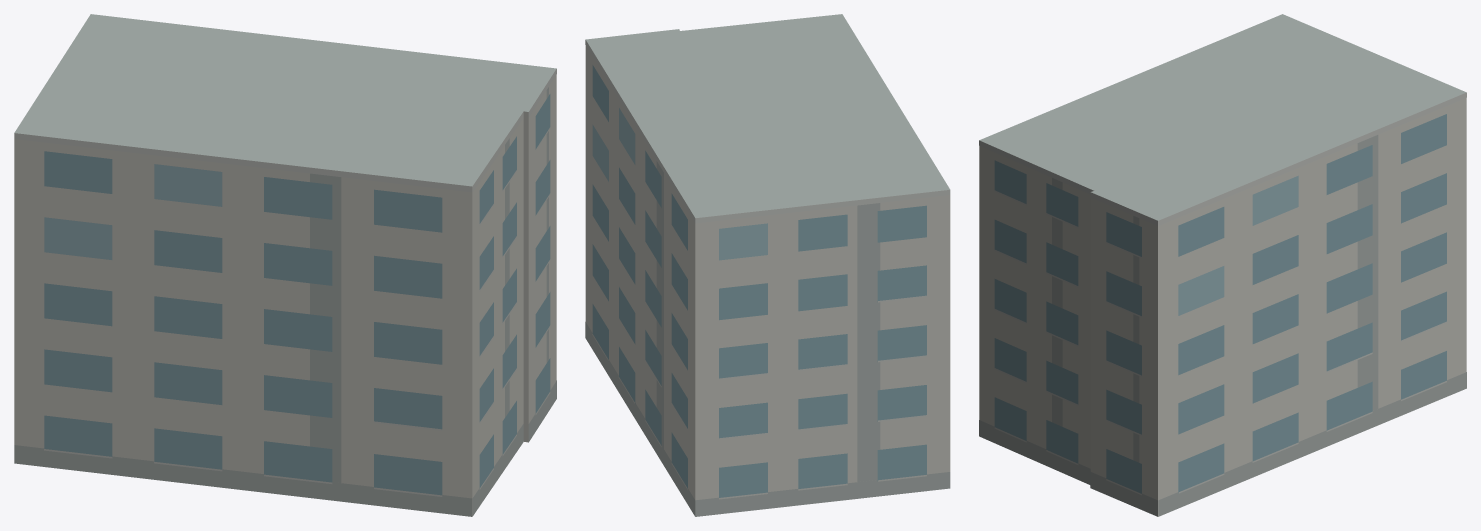
File: survey-upis-32999260.glb
The picture shows the model from 3 angles, left to right: view 1: azimuth 30°, elevation 25°; view 2: azimuth 150°, elevation 25°; view 3: azimuth 270°, elevation 25°; orthographic projection. The views are drawn at different scales.
Parts seen in each view (by area): view 1: survey-upis-32999260.tmp; view 2: survey-upis-32999260.tmp; view 3: survey-upis-32999260.tmp.
Part boxes in pixels (bbox=[...]): survey-upis-32999260.tmp: bbox=[14, 14, 556, 516]; survey-upis-32999260.tmp: bbox=[585, 14, 950, 516]; survey-upis-32999260.tmp: bbox=[979, 14, 1466, 516].
Size of the model in its own units: 20.23 by 13.5 by 20.16.
